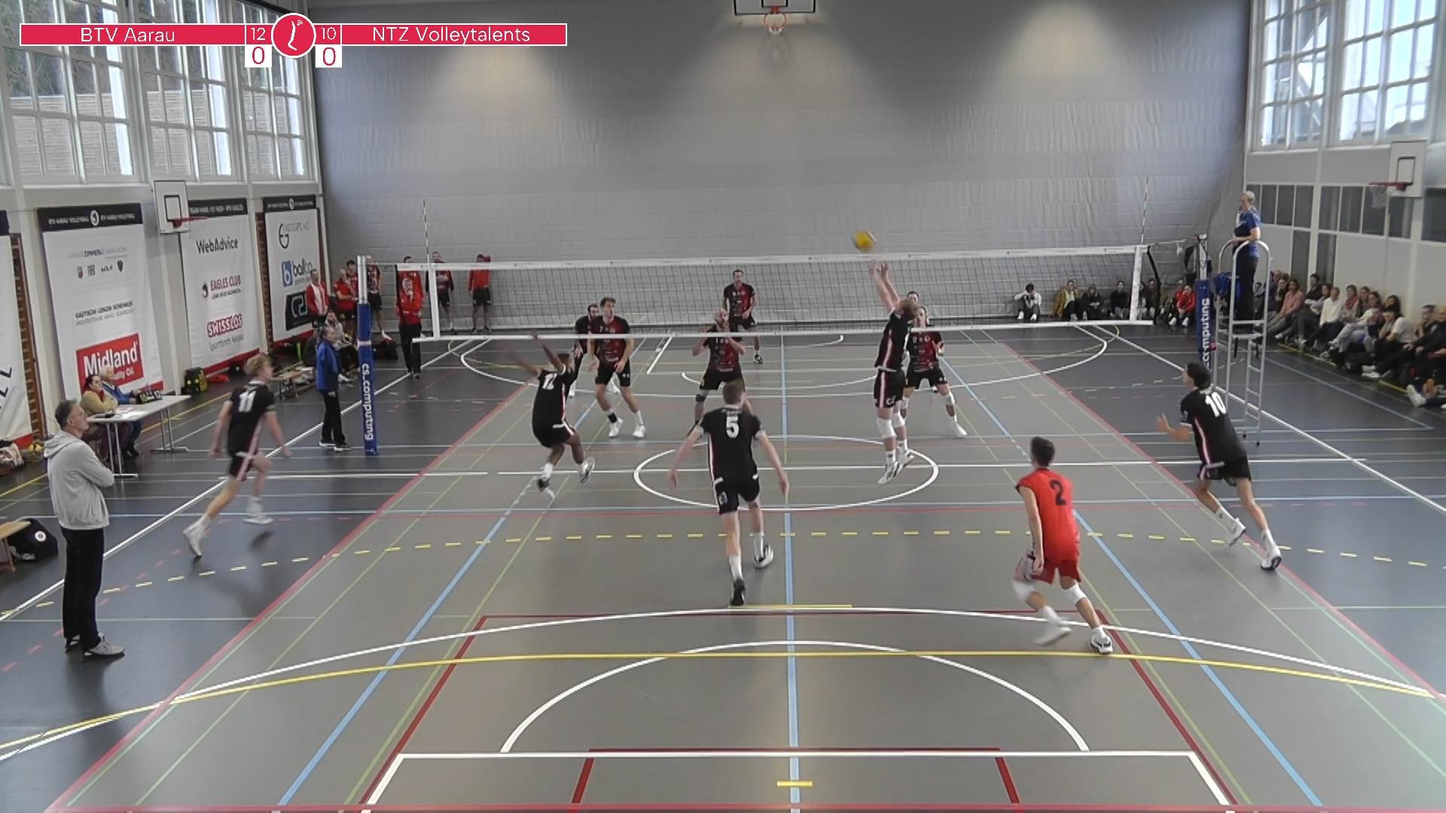alzata: (854, 261, 925, 467)
